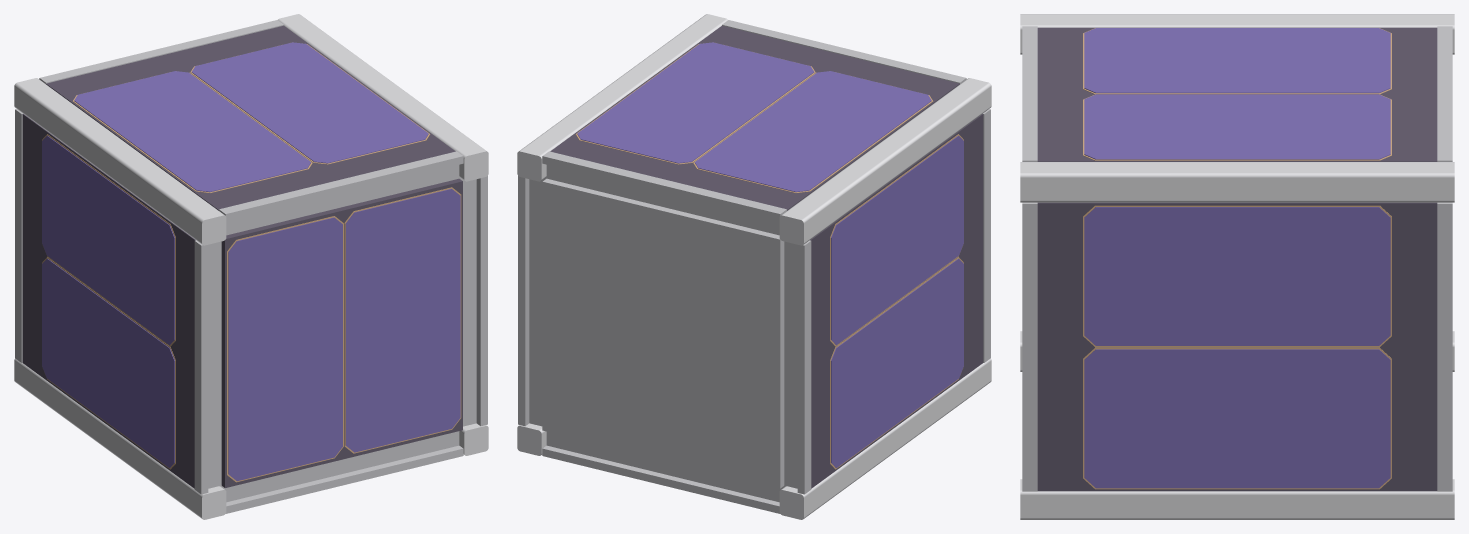
Rendered from CDS_1U_nasa_style.glb.
3 renders of one model, left to right at view 1: azimuth 30°, elevation 25°; view 2: azimuth 150°, elevation 25°; view 3: azimuth 270°, elevation 25°, orthographic. The views are drawn at different scales.
Visible parts, largest first — view 1: solar_panel_pZ_cells, solar_panel_mX_z1_cells, solar_panel_pY_z1_cells, structure_body, solar_panel_mX_z1_substrate, solar_panel_pY_z1_substrate, rail_mX_pY, structure_band_mX, rail_mX_mY, structure_band_pY, solar_panel_pZ_substrate, rail_pX_pY (+6 smaller); view 2: structure_endplate_mZ, solar_panel_mX_z1_cells, solar_panel_pY_z1_cells, structure_body, solar_panel_mX_z1_substrate, solar_panel_pY_z1_substrate, rail_mX_pY, structure_band_mX, rail_mX_mY, structure_band_pY, rail_pX_pY, structure_band_pX (+4 smaller); view 3: solar_panel_pX_z1_cells, solar_panel_pY_z1_cells, solar_panel_pX_z1_substrate, rail_pX_pY, solar_panel_pY_z1_substrate, rail_pX_mY, structure_band_pX, rail_mX_pY, structure_band_pY, solar_panel_pX_z1_cell_borders, solar_panel_pY_z1_cell_borders.
Part boxes in pixels (<box>): solar_panel_pZ_cells: <box>228,188,460,481</box>; solar_panel_mX_z1_cells: <box>42,135,174,467</box>; solar_panel_pY_z1_cells: <box>74,42,428,192</box>; structure_body: <box>208,165,476,502</box>; solar_panel_mX_z1_substrate: <box>22,114,195,488</box>; solar_panel_pY_z1_substrate: <box>46,25,455,210</box>; rail_mX_pY: <box>14,78,226,245</box>; structure_band_mX: <box>15,109,208,494</box>; rail_mX_mY: <box>14,358,226,519</box>; structure_band_pY: <box>39,20,463,221</box>; solar_panel_pZ_substrate: <box>221,178,462,487</box>; rail_pX_pY: <box>278,14,488,181</box>; structure_endplate_mZ: <box>542,178,784,488</box>; solar_panel_mX_z1_cells: <box>831,135,963,467</box>; solar_panel_pY_z1_cells: <box>577,42,931,192</box>; structure_body: <box>529,165,797,502</box>; solar_panel_mX_z1_substrate: <box>810,114,983,488</box>; solar_panel_pY_z1_substrate: <box>550,25,959,210</box>; rail_mX_pY: <box>779,78,991,245</box>; structure_band_mX: <box>797,109,990,494</box>; rail_mX_mY: <box>779,358,991,519</box>; structure_band_pY: <box>542,20,966,221</box>; rail_pX_pY: <box>517,14,727,181</box>; structure_band_pX: <box>518,176,529,426</box>; solar_panel_pX_z1_cells: <box>1084,207,1390,488</box>; solar_panel_pY_z1_cells: <box>1084,28,1390,159</box>; solar_panel_pX_z1_substrate: <box>1037,202,1437,491</box>; rail_pX_pY: <box>1020,162,1454,202</box>; solar_panel_pY_z1_substrate: <box>1037,27,1437,161</box>; rail_pX_mY: <box>1020,479,1454,519</box>; structure_band_pX: <box>1022,202,1452,491</box>; rail_mX_pY: <box>1020,14,1454,54</box>; structure_band_pY: <box>1022,26,1452,161</box>; solar_panel_pX_z1_cell_borders: <box>1083,205,1391,489</box>; solar_panel_pY_z1_cell_borders: <box>1083,28,1391,160</box>.
Bounding box in the file's own units: 0.1 × 0.1 × 0.1135.
